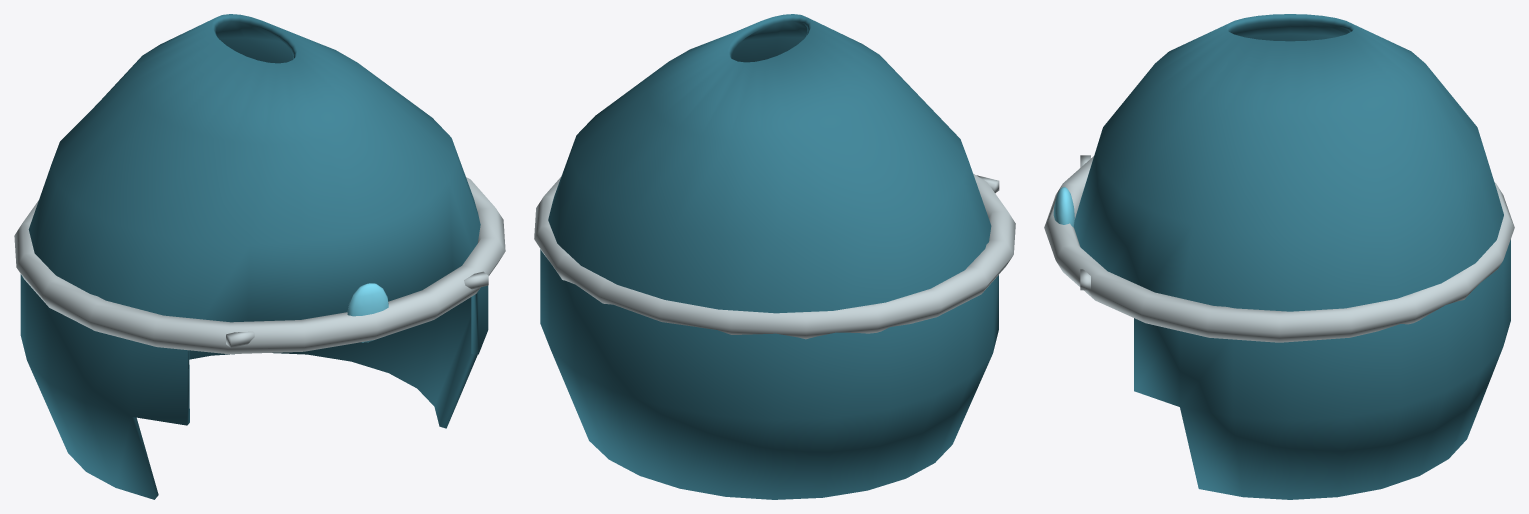
The model's file is helm-rune.glb.
3 renders of one model, left to right at view 1: azimuth 30°, elevation 25°; view 2: azimuth 150°, elevation 25°; view 3: azimuth 270°, elevation 25°, orthographic.
Visible parts, largest first — view 1: garment, Torus.017, Sphere; view 2: garment, Torus.017; view 3: garment, Torus.017, Sphere.
Boxes of the visible parts, x1,y1,x2,y2 form: garment: (20, 14, 488, 499); Torus.017: (14, 177, 505, 354); Sphere: (347, 283, 388, 342); garment: (540, 14, 998, 499); Torus.017: (534, 173, 1015, 339); garment: (1074, 14, 1510, 499); Torus.017: (1044, 156, 1514, 342); Sphere: (1053, 187, 1074, 227).
Bounding box in the file's own units: 0.93 × 0.8 × 0.8742.
